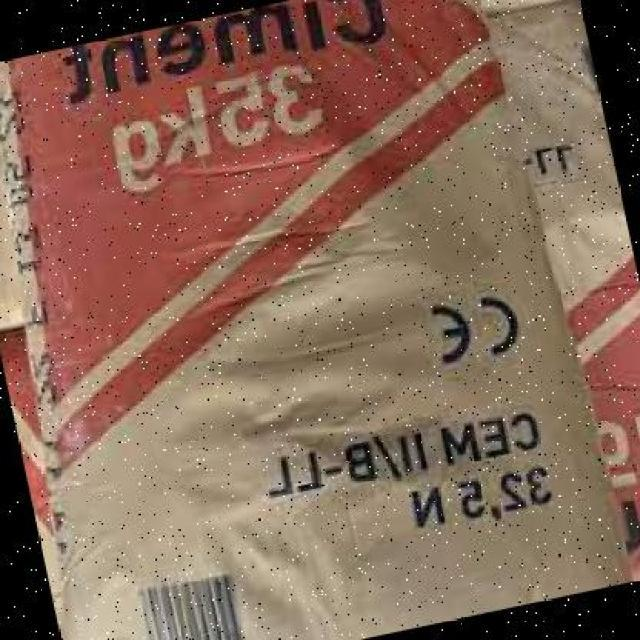gunny_bag: (0, 0, 635, 640), (487, 0, 640, 579), (0, 328, 54, 610), (0, 143, 27, 328)
